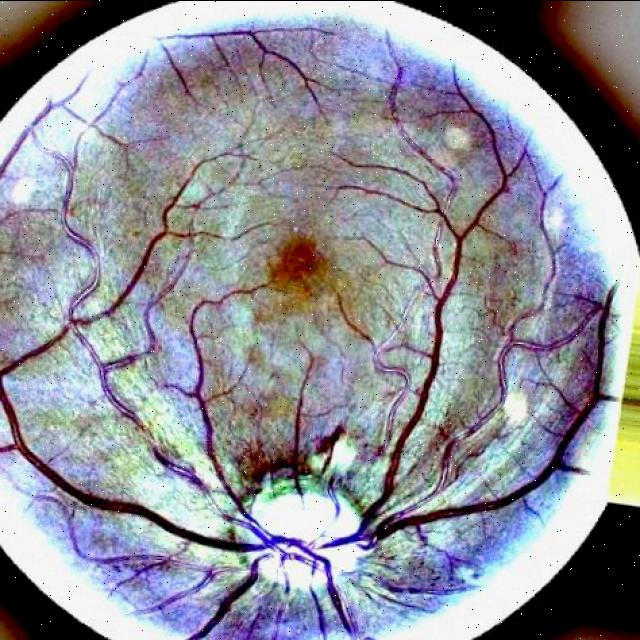Macula: (247, 207, 345, 306)
Nerves: (0, 79, 313, 565), (319, 134, 613, 559)
Optic Disk: (200, 437, 400, 638)
